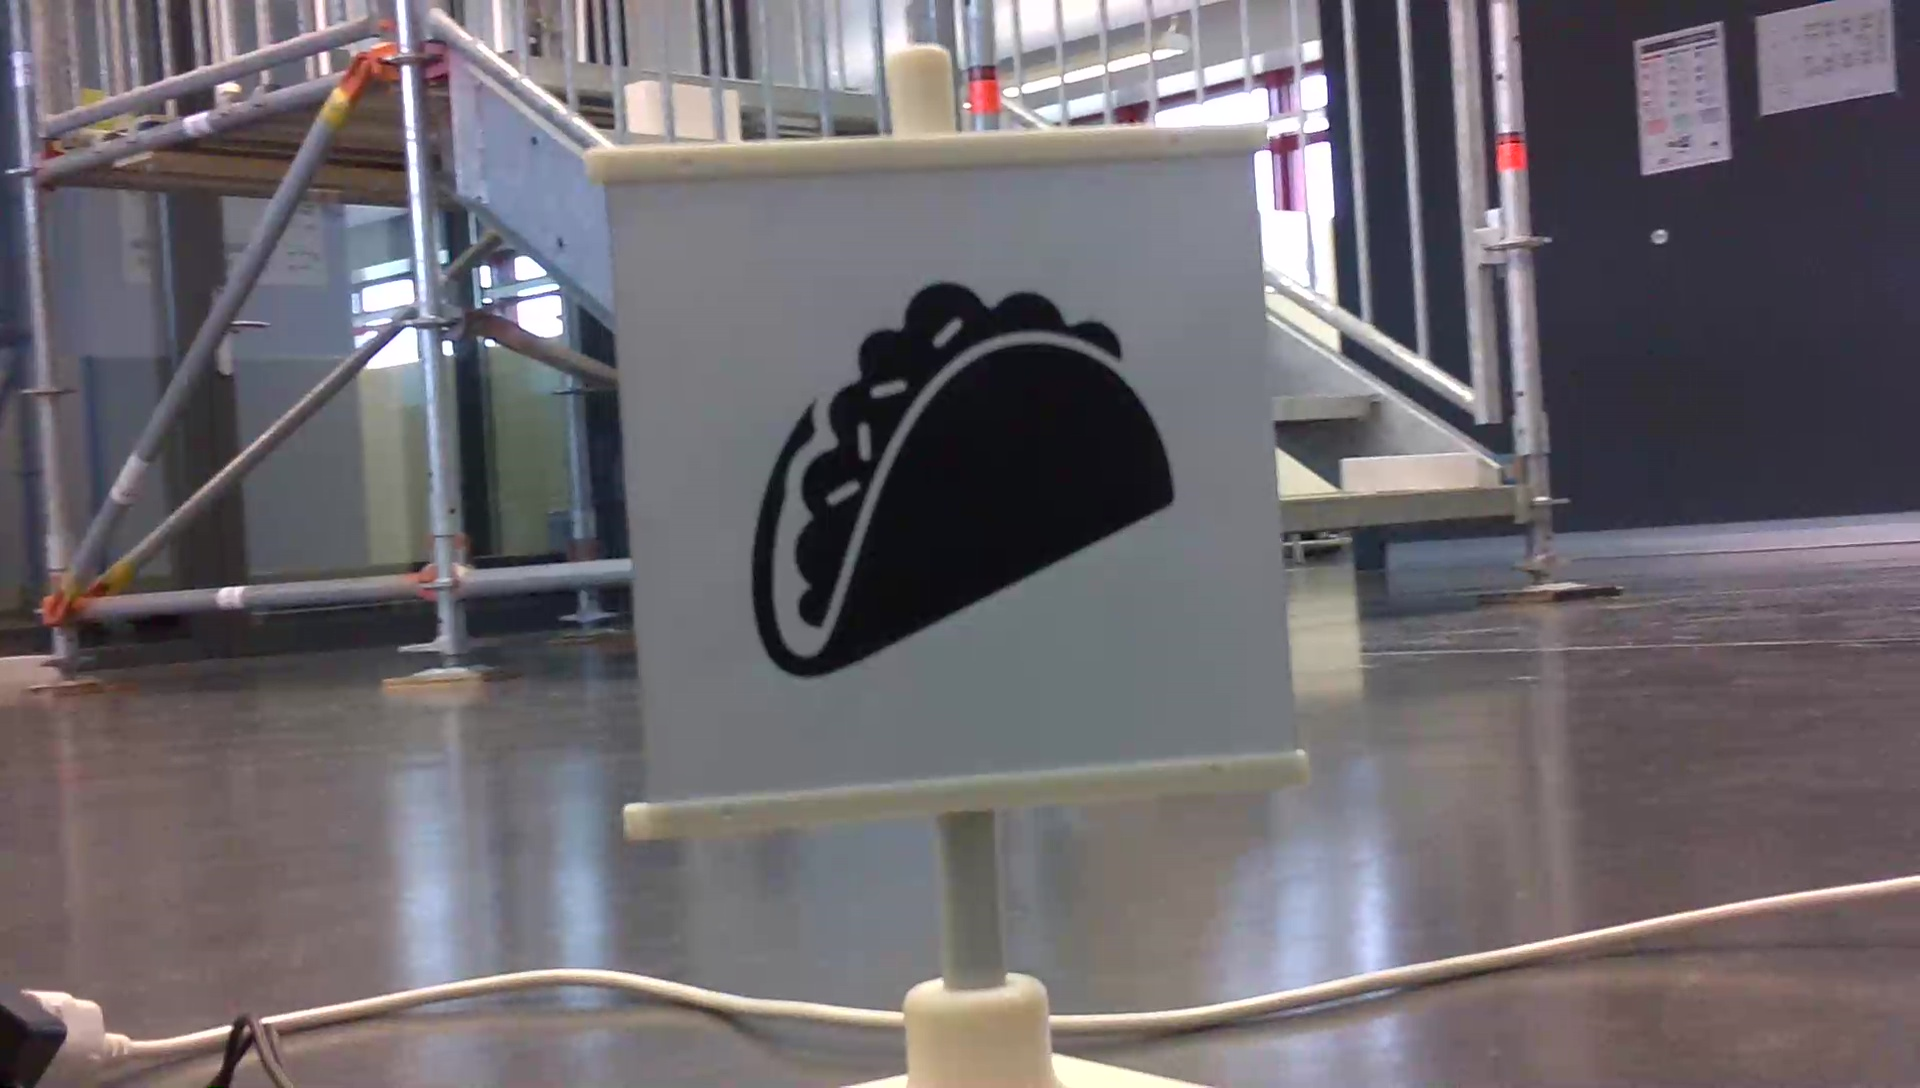brick: (1340, 452, 1473, 489)
taco: (732, 270, 1189, 687)
